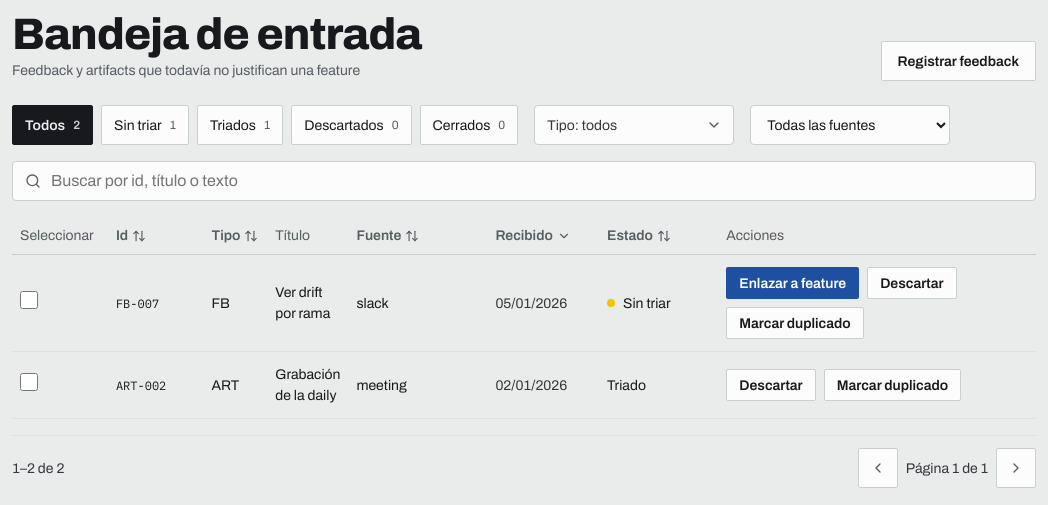
Scenario: Entrada › filters by estado chip and by tipo select
The width and height of the screenshot is (1048, 505).
Check: the text "FB-007" is shown, box [116, 296, 159, 310]
Click the radio button labelled "Triados 1" at (240, 125), box [197, 105, 283, 145]
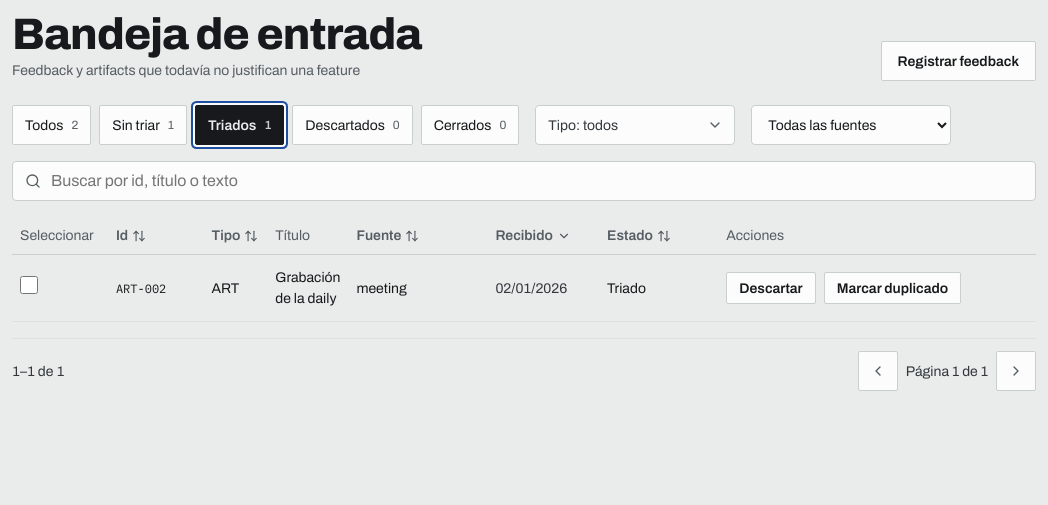
Check: the text "ART-002" is shown, box [116, 280, 166, 296]
Check: the text "FB-007" is gone
Click the radio button labelled "Todos 2" at (52, 125), box [12, 105, 91, 145]
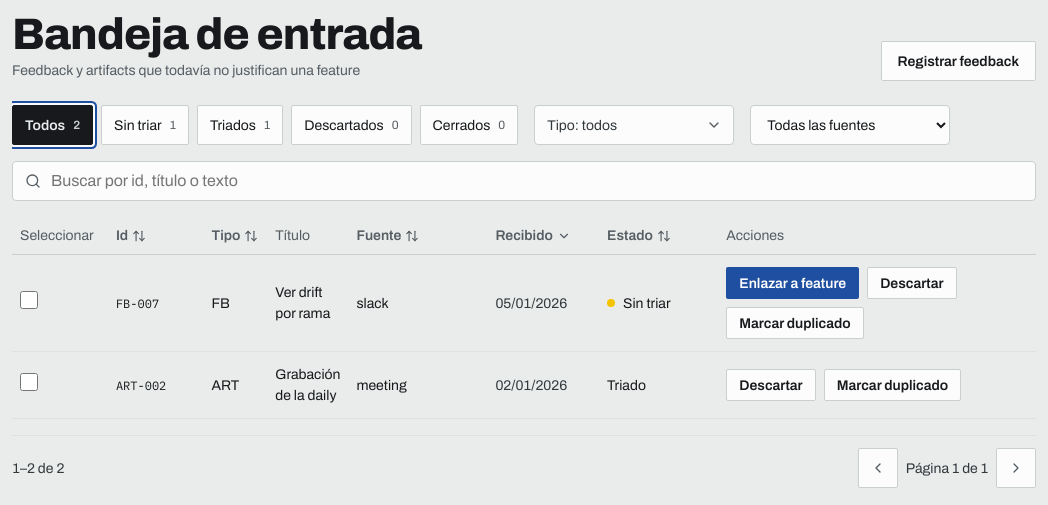
Select "Tipo: FB" in the dropdown named "Tipo" at (634, 125), box [534, 105, 734, 145]
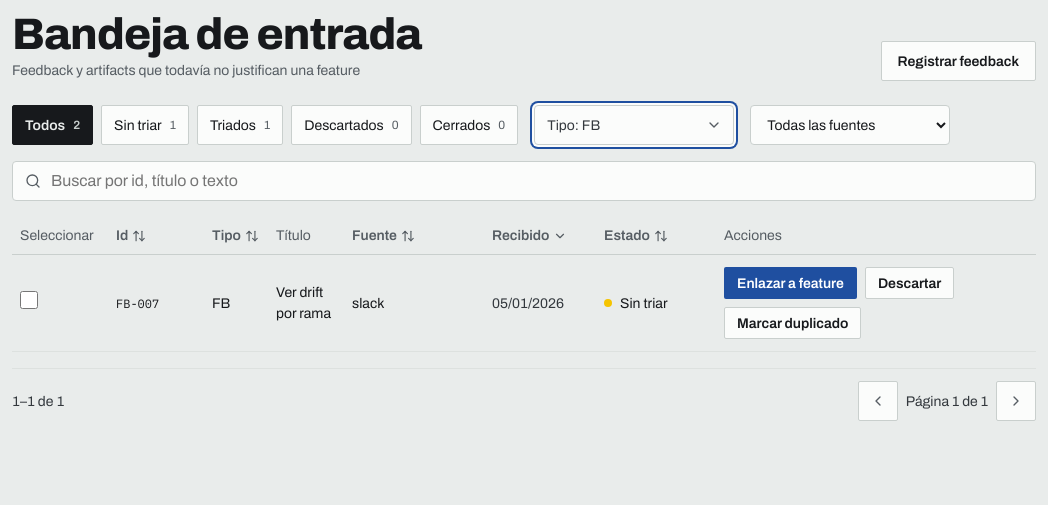
Check: the text "FB-007" is shown, box [116, 296, 159, 310]
Check: the text "ART-002" is gone
